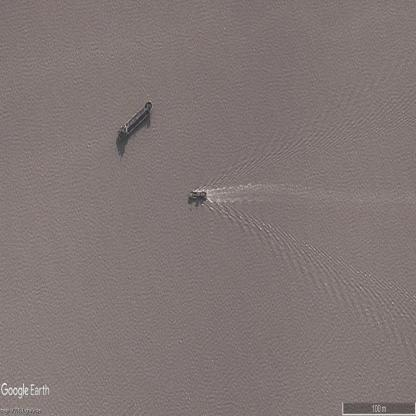ship: (115, 99, 154, 143), (190, 188, 207, 200)
